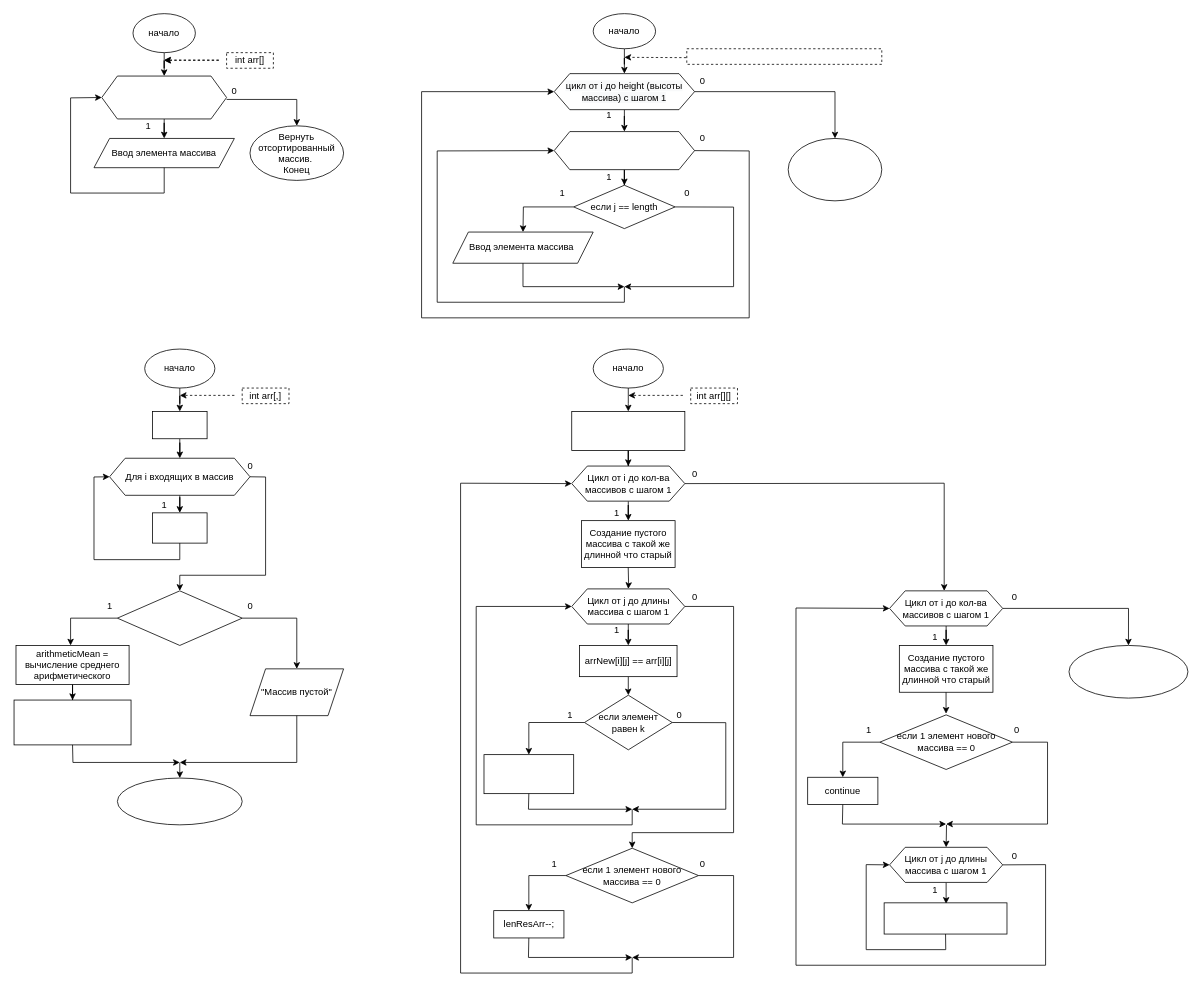
Some shapes in this 1201 by 993 pixel diagram are drawn without their labels. The shapes that lost their labels are listed below. From the top down, each one's centre as x and y in pixels, then its label:
At point 784,56: "int[,] numsNew = new int[height, length + 1];".
At point 164,97: "цикл от i до len (длины массива) с шагом 1".
At point 624,150: "цикл от j до length (длины массива) с шагом 1".
At point 834,169: "Вернуть массив Конец.".
At point 179,425: "sum = 0".
At point 628,430: "Создание нового массива с таким же количеством массивов".
At point 179,527: "sum++".
At point 179,617: "если длина массива не равна 0".
At point 1128,671: "Вернуть полученный массив Конец".
At point 72,722: "копирование элементов массива, которые не равны arithmeticMean".
At point 528,774: "1 элемент нового массива = 0".
At point 179,801: "Вернуть полученный массив. Конец".
At point 945,918: "resArr[z][j] = arrNew[i][j];".
